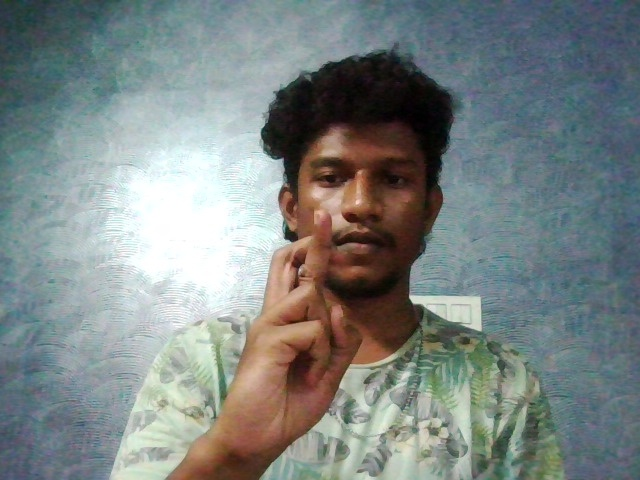hope: (222, 202, 370, 474)
